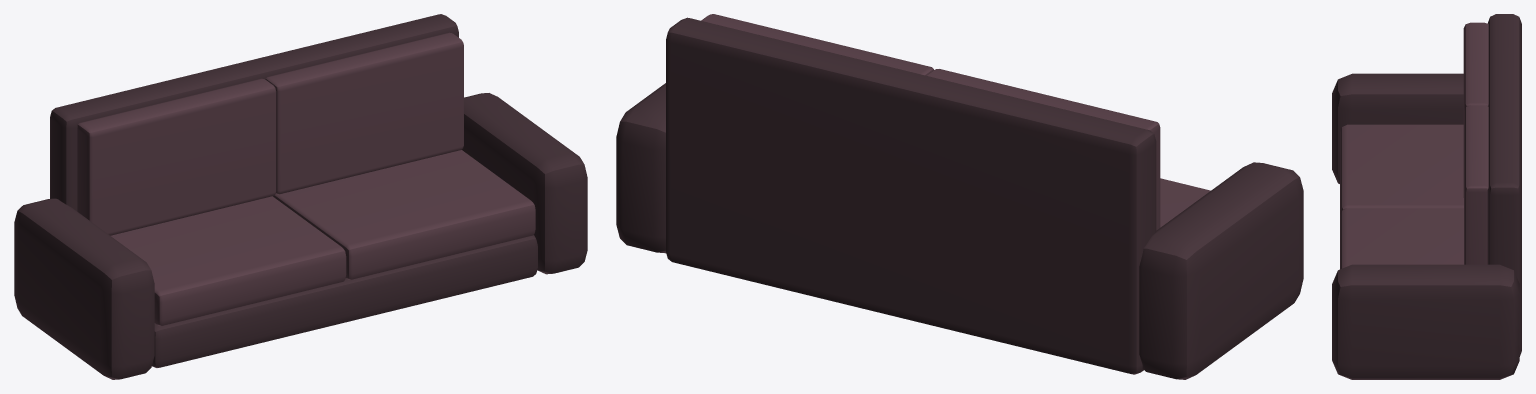
Rendered from colored sofa.fbx.
The picture shows the model from 3 angles, left to right: view 1: azimuth 30°, elevation 25°; view 2: azimuth 150°, elevation 25°; view 3: azimuth 270°, elevation 25°; orthographic projection. The views are drawn at different scales.
Visible parts, largest first — view 1: polySurface4, polySurface1, polySurface2, polySurface3; view 2: polySurface3, polySurface2, polySurface4, polySurface1; view 3: polySurface2, polySurface1, polySurface3, polySurface4.
Boxes of the visible parts, bbox=[...] form: polySurface4: bbox=[77, 32, 463, 235]; polySurface1: bbox=[110, 150, 535, 326]; polySurface2: bbox=[14, 93, 587, 379]; polySurface3: bbox=[50, 14, 537, 367]; polySurface3: bbox=[666, 17, 1156, 374]; polySurface2: bbox=[616, 83, 1303, 379]; polySurface4: bbox=[701, 14, 1160, 230]; polySurface1: bbox=[1160, 178, 1210, 227]; polySurface2: bbox=[1332, 73, 1519, 379]; polySurface1: bbox=[1340, 124, 1463, 269]; polySurface3: bbox=[1487, 14, 1521, 356]; polySurface4: bbox=[1463, 22, 1488, 264].
Bounding box in the file's own units: 2.18 × 0.858 × 0.8216.
